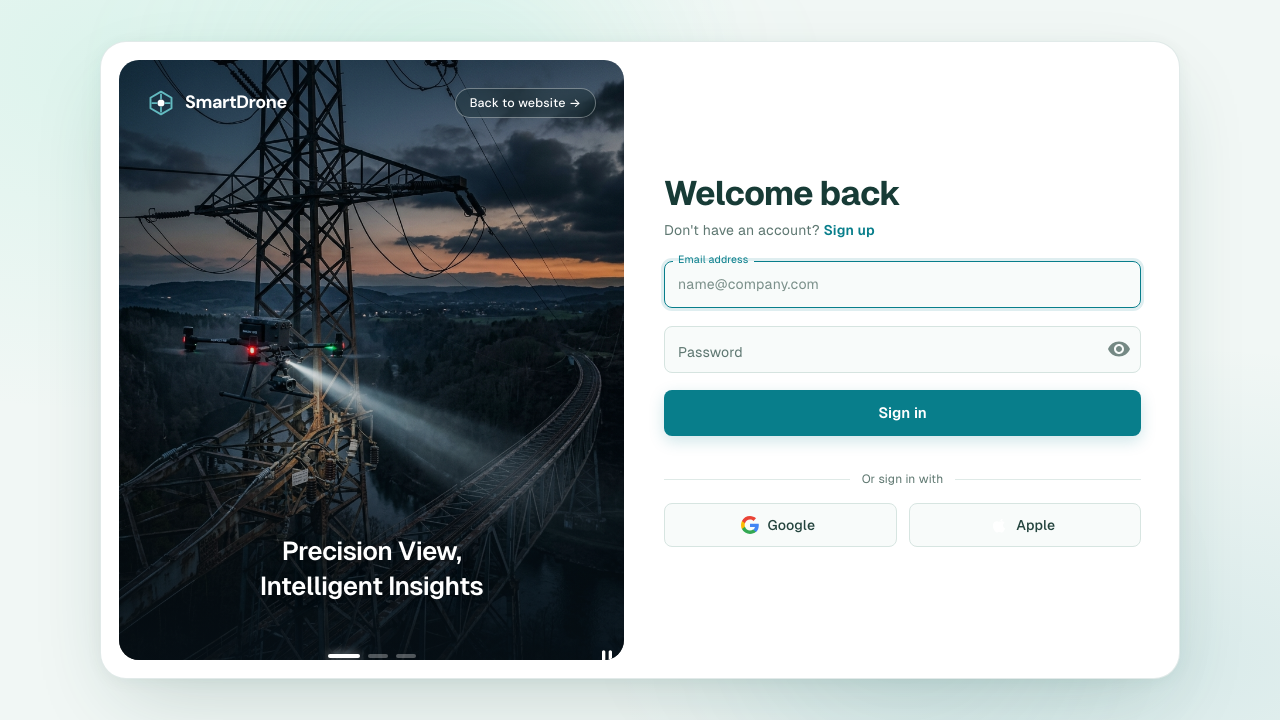
role-aware sign-in flow › shows rejected credentials without creating a session
In the field labelled "Email address": (902, 284) [664,261,1141,308], type "person@example.test"
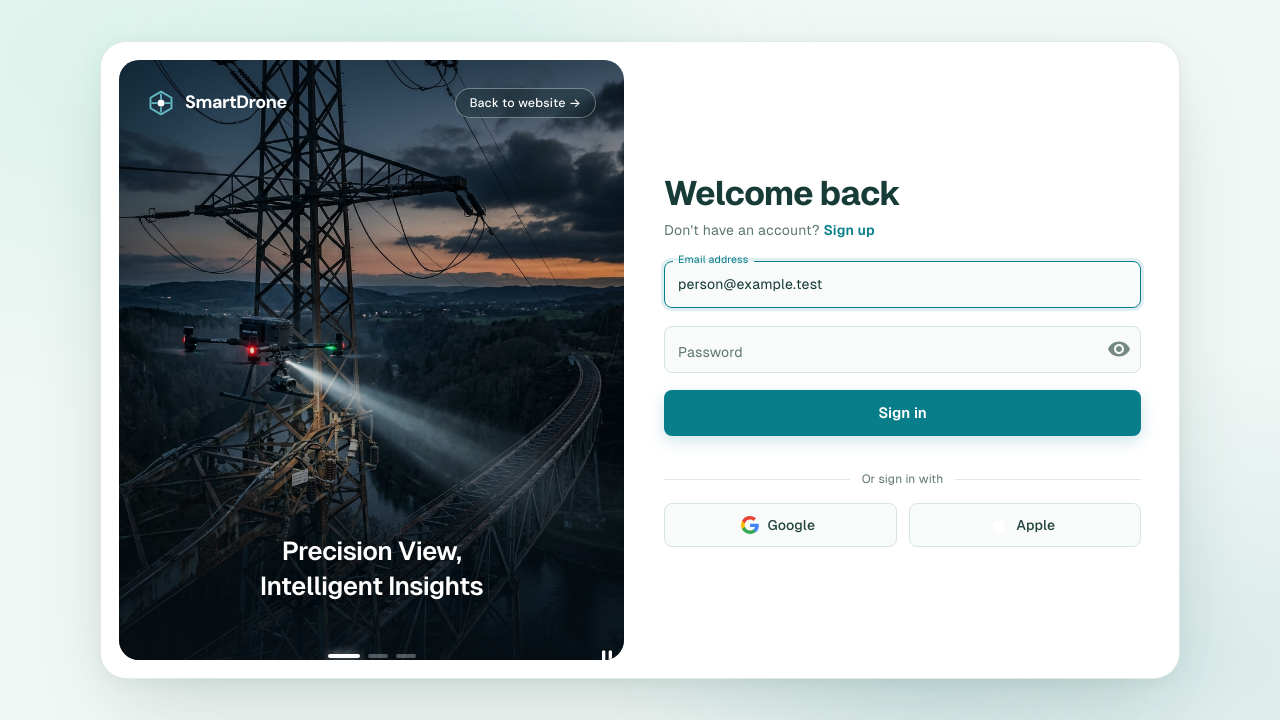
In the password field labelled "Password": (878, 349) [664,326,1091,373], type "incorrect-password"
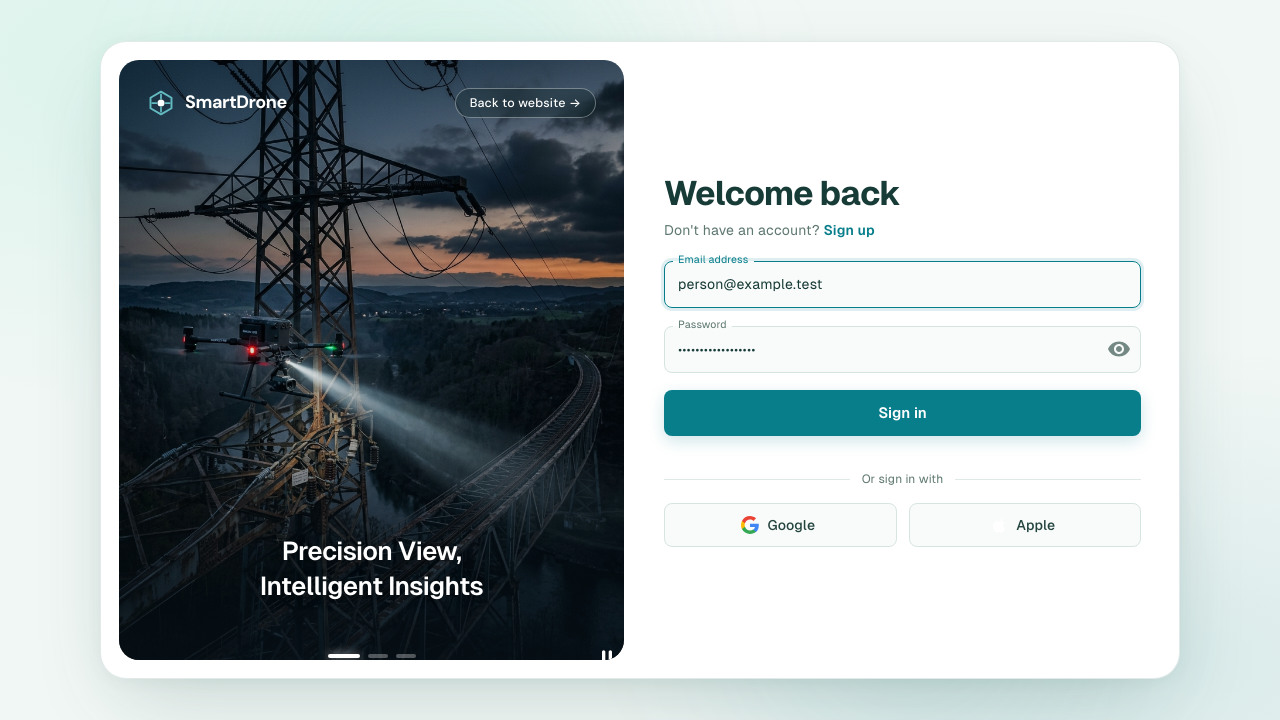
Click the button "Sign in": (902, 413) [664,390,1141,436]
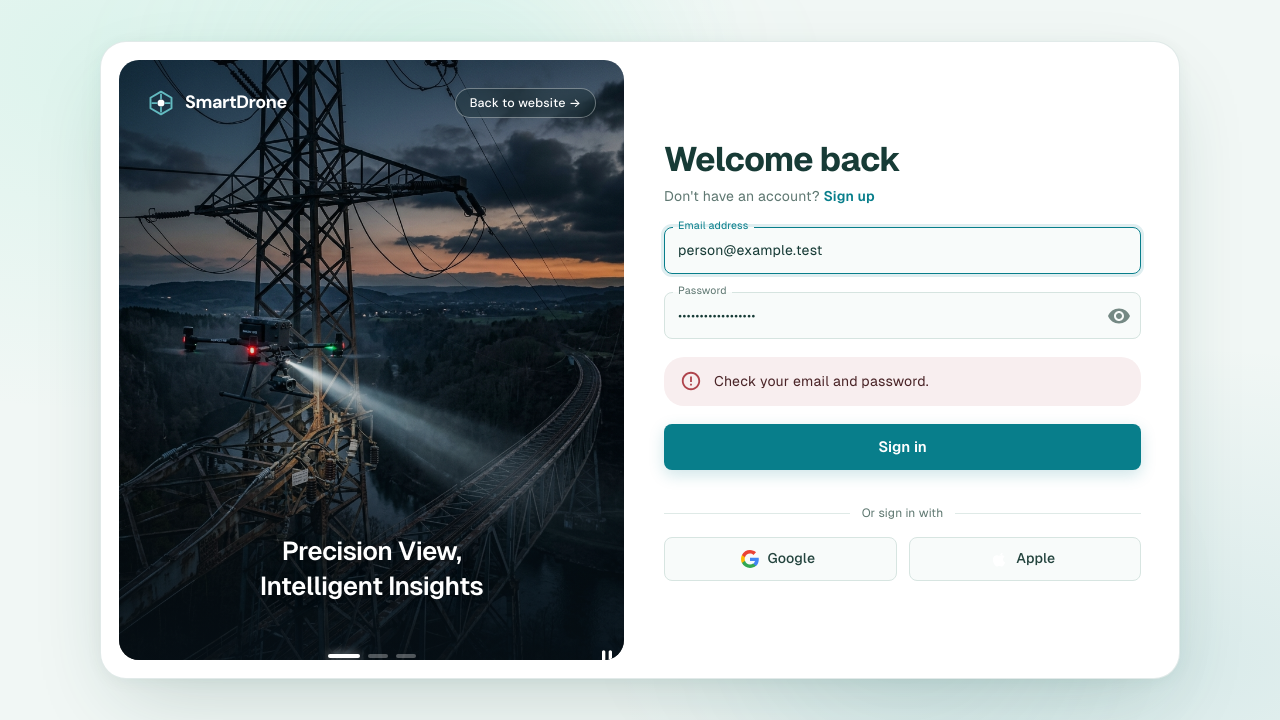
Now the message reads "Check your email and password.", box [714,373,929,389]
